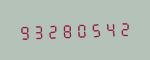eight: (59, 20, 72, 40)
five: (87, 19, 100, 39)
four: (101, 19, 114, 38)
nine: (17, 22, 30, 41)
three: (31, 21, 44, 41)
two: (115, 18, 128, 38), (45, 21, 58, 40)
zero: (73, 20, 86, 39)
